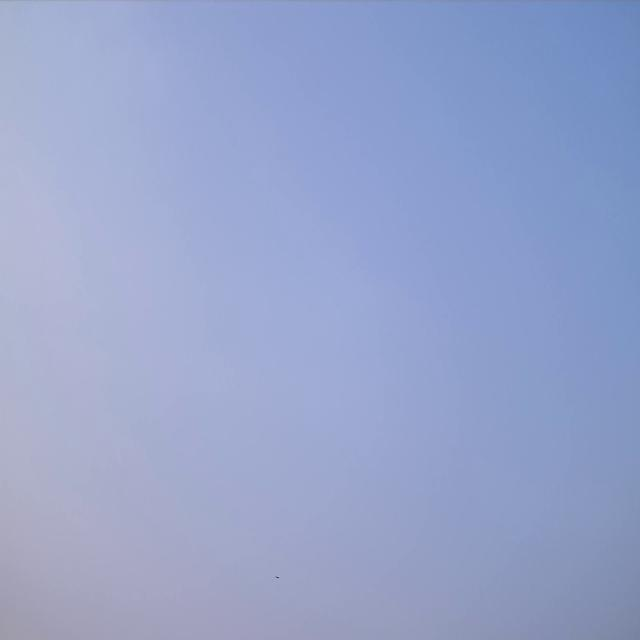UAV: (275, 576, 279, 578)
